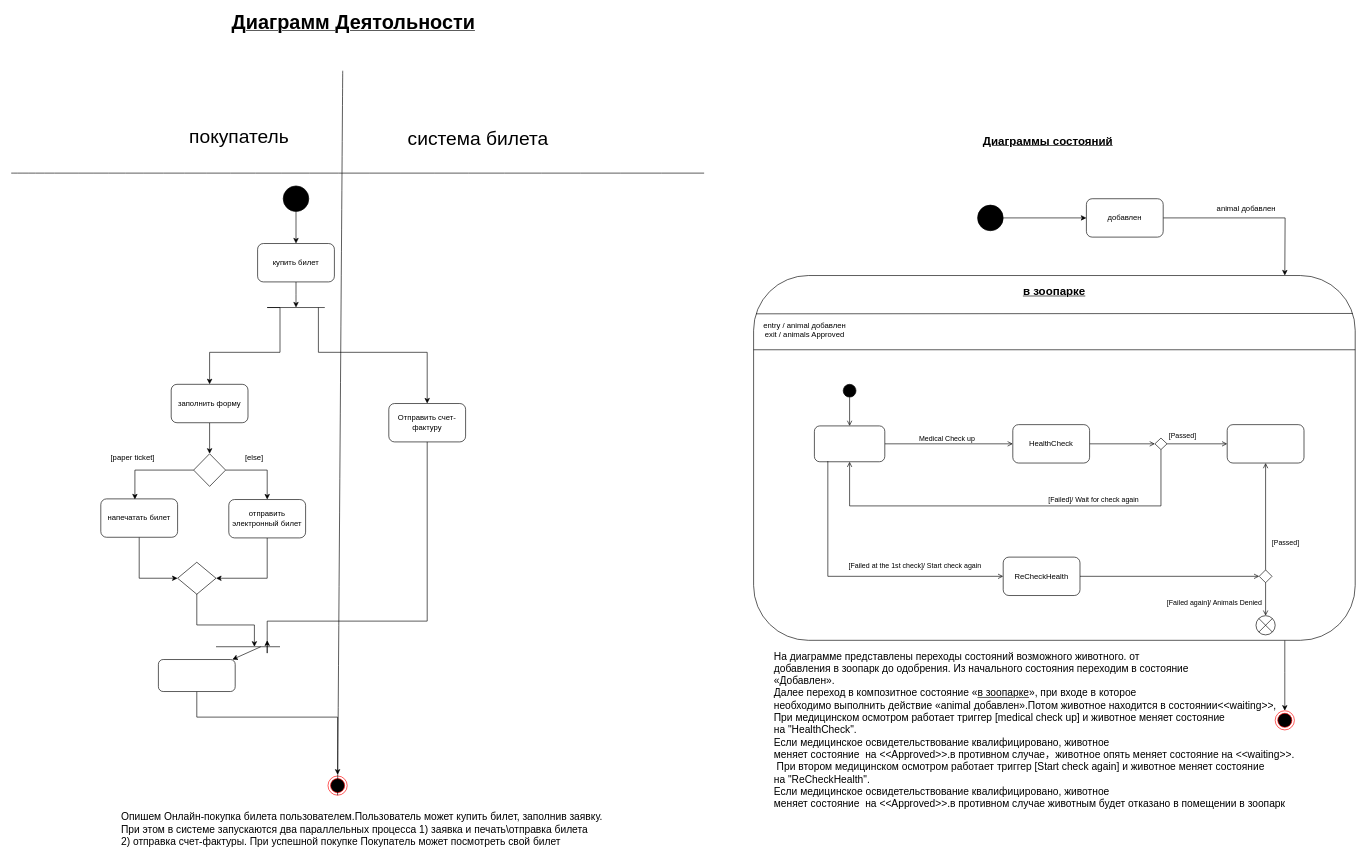
Some shapes in this 1367 by 863 pixel diagram are drawn without their labels. Here are the shapes that lost their labels. From the top down, the centre of each, then its label:
the point at 849,443: waiting
the point at 1265,443: Approved
the point at 196,675: Проверить\посмотреть билет
